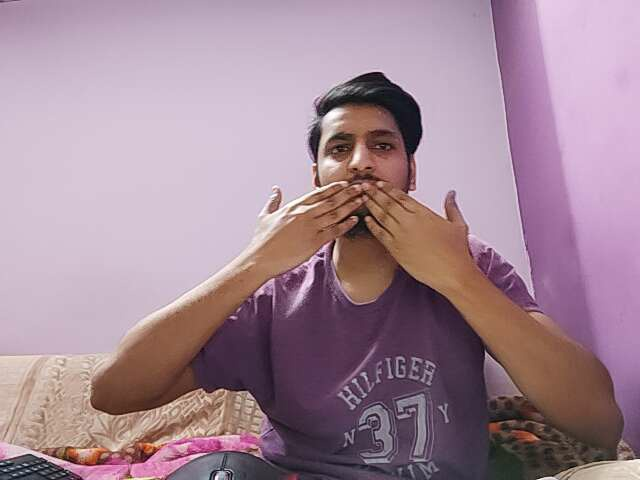ThankYou: (241, 179, 480, 275)
